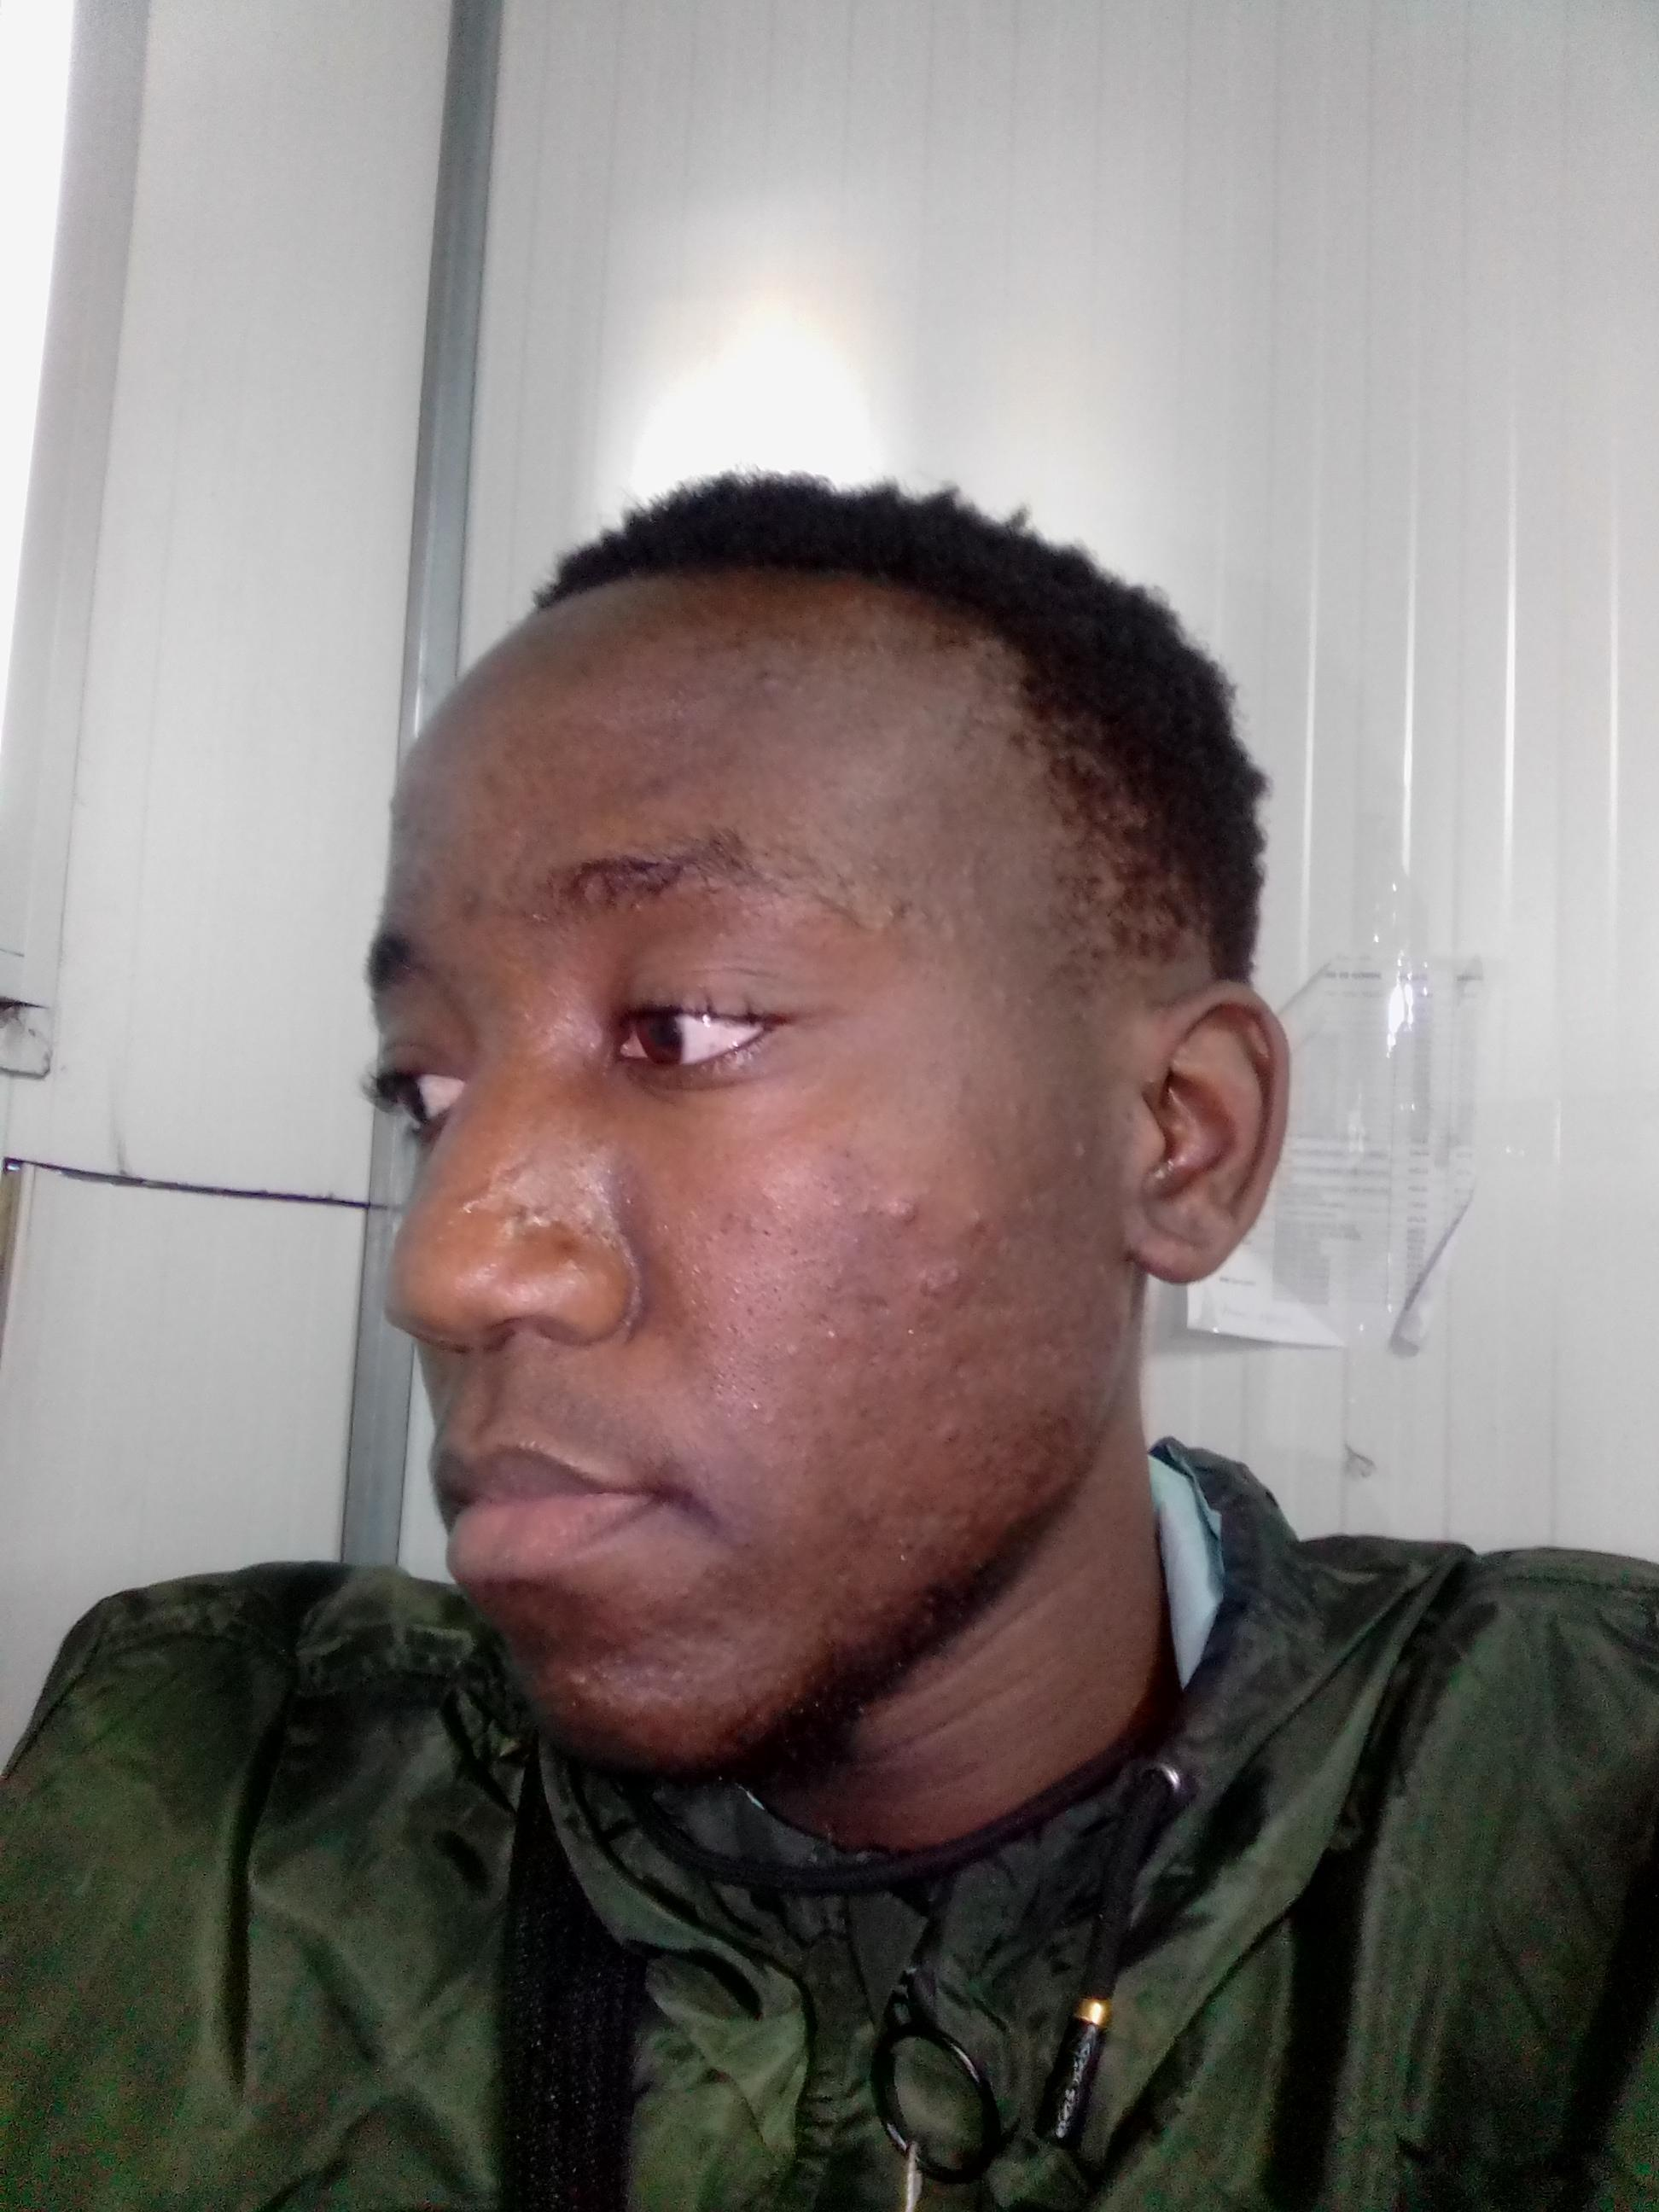Acne: (542, 1656, 697, 1709), (957, 857, 993, 939), (444, 1177, 502, 1228), (918, 1256, 971, 1298), (742, 660, 789, 705), (850, 1484, 887, 1536), (880, 1191, 925, 1231), (871, 894, 918, 932), (629, 766, 673, 803), (1061, 1130, 1096, 1172), (662, 1576, 702, 1611), (453, 883, 486, 925), (843, 1392, 882, 1426), (512, 1202, 552, 1235), (852, 1592, 894, 1622), (946, 1332, 974, 1376), (481, 765, 507, 808), (936, 1416, 962, 1456), (1019, 1193, 1049, 1224), (964, 1205, 995, 1233), (816, 1324, 843, 1352), (992, 979, 1018, 1008), (701, 1608, 728, 1634), (572, 658, 598, 685), (854, 1193, 877, 1221), (1004, 1096, 1026, 1116)
Englarged-Pores: (690, 1214, 816, 1421)
